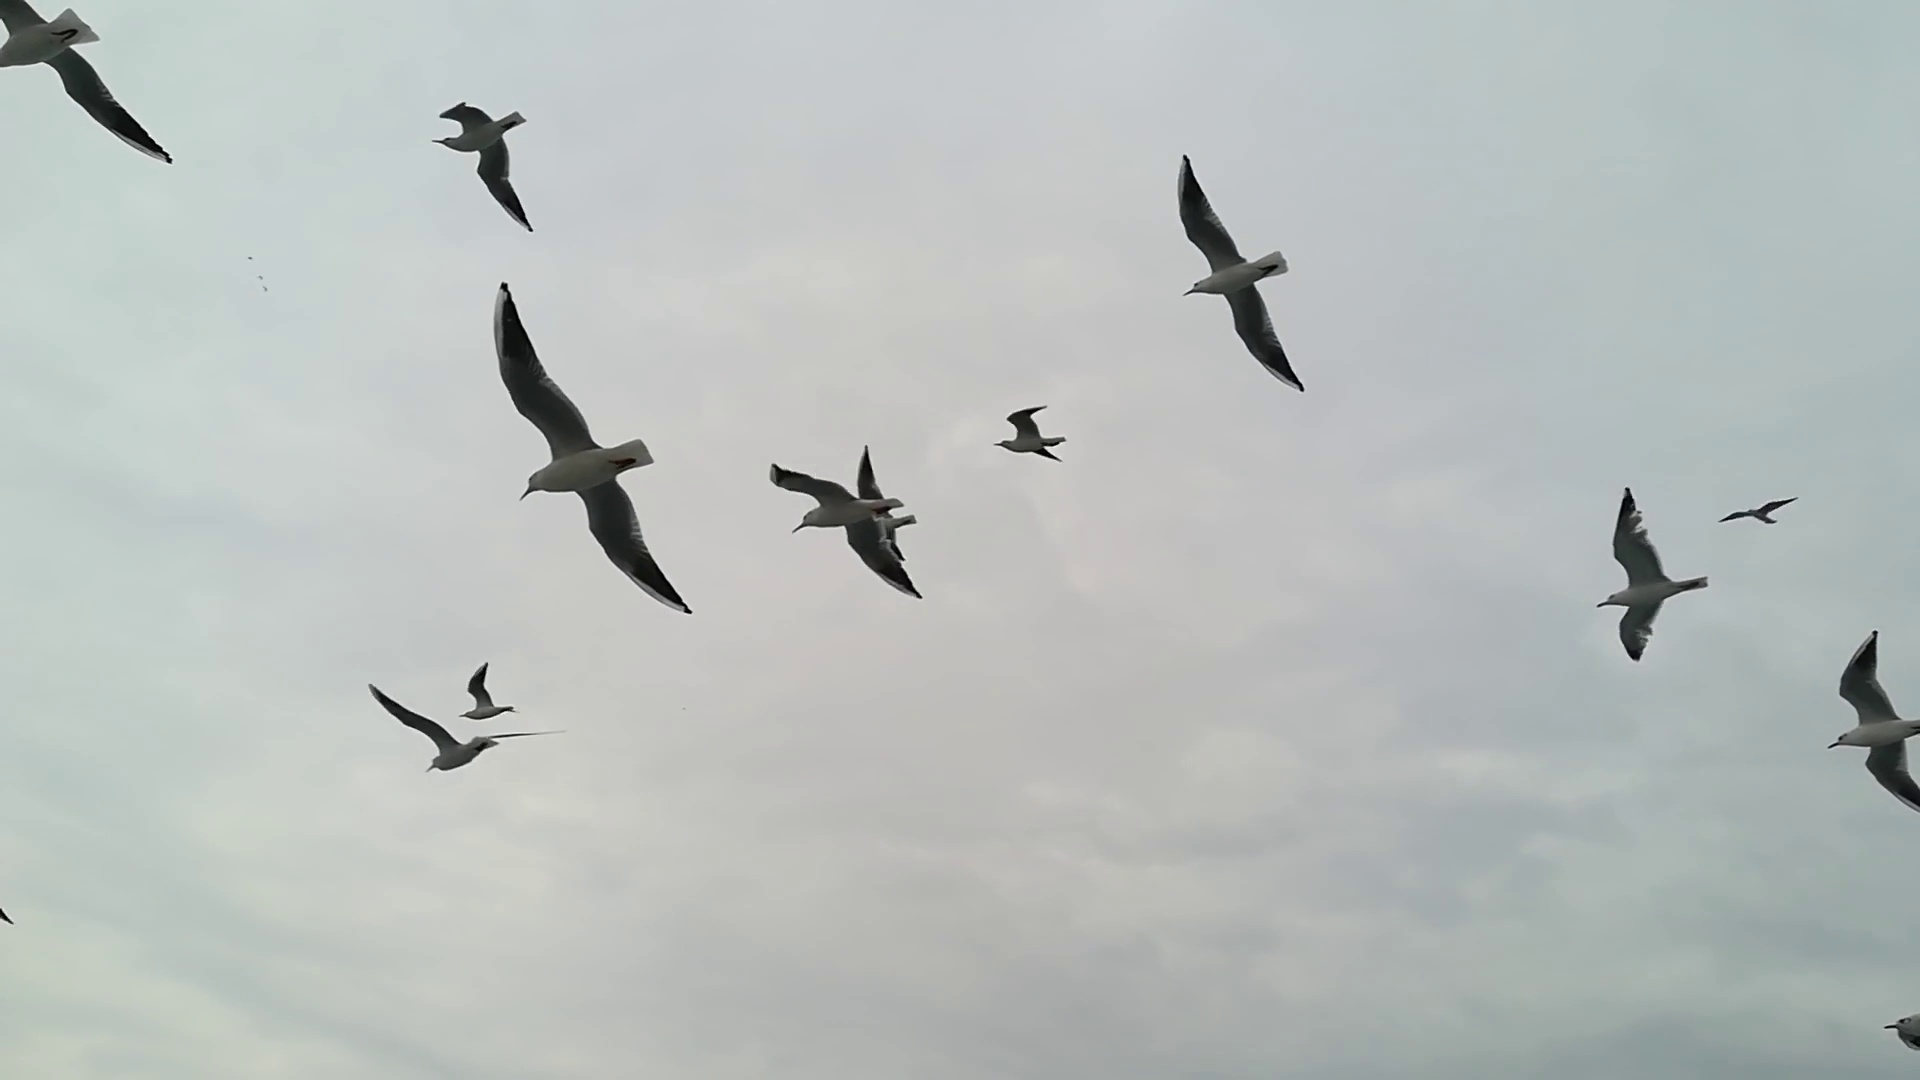bird: (489, 280, 687, 611), (1178, 154, 1305, 394), (1, 1, 175, 164), (767, 442, 920, 597), (1594, 485, 1710, 662), (364, 682, 554, 775), (1826, 626, 1919, 810), (431, 100, 538, 236), (992, 402, 1065, 462), (459, 659, 514, 721), (1717, 493, 1800, 527), (1880, 1014, 1920, 1048)
